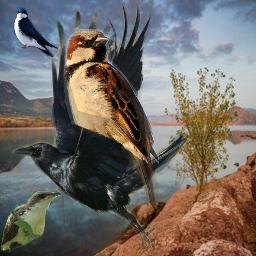Crow: (12, 0, 188, 254)
Cuckoo: (0, 190, 61, 252)
Swallow: (63, 29, 159, 212), (13, 7, 58, 57)
